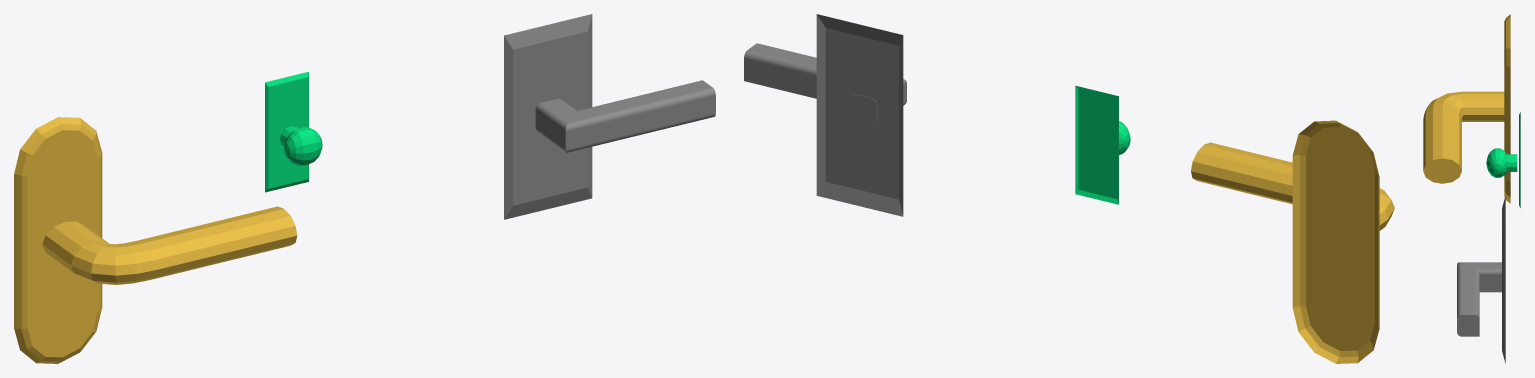
File: Doorhandles.fbx
The picture shows the model from 3 angles, left to right: view 1: azimuth 30°, elevation 25°; view 2: azimuth 150°, elevation 25°; view 3: azimuth 270°, elevation 25°; orthographic projection. The views are drawn at different scales.
Visible parts, largest first — view 1: DoorHandle.005, DoorHandle.006, DoorHandle.002; view 2: DoorHandle.005, DoorHandle.006, DoorHandle.002; view 3: DoorHandle.005, DoorHandle.006, DoorHandle.002.
Boxes of the visible parts, box(x1,y1,x2,y2) form: DoorHandle.005: box(14, 117, 297, 363); DoorHandle.006: box(504, 14, 715, 219); DoorHandle.002: box(265, 71, 322, 192); DoorHandle.005: box(1191, 120, 1394, 363); DoorHandle.006: box(744, 14, 906, 216); DoorHandle.002: box(1075, 85, 1130, 204); DoorHandle.005: box(1423, 14, 1510, 203); DoorHandle.006: box(1457, 196, 1505, 363); DoorHandle.002: box(1486, 112, 1520, 207).
Size of the model in its own units: 75.54 by 26.78 by 12.94.
